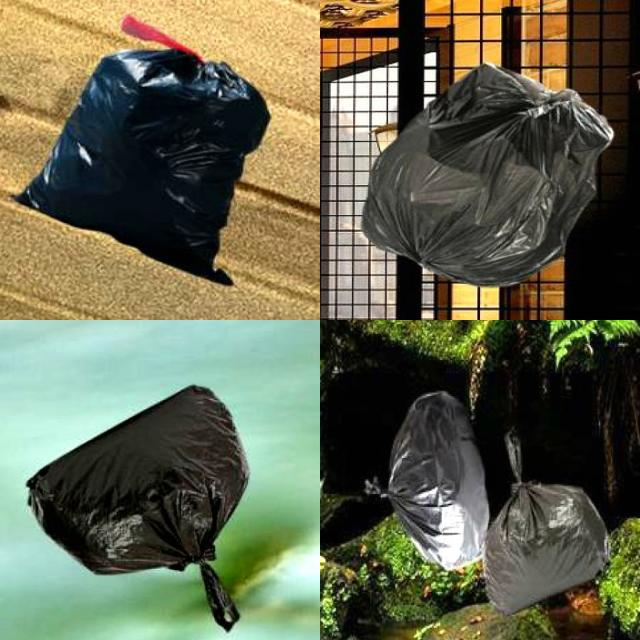Single-layer Plastic: (16, 15, 270, 284), (362, 65, 614, 285), (28, 385, 249, 631), (484, 428, 608, 615), (364, 391, 489, 570)
